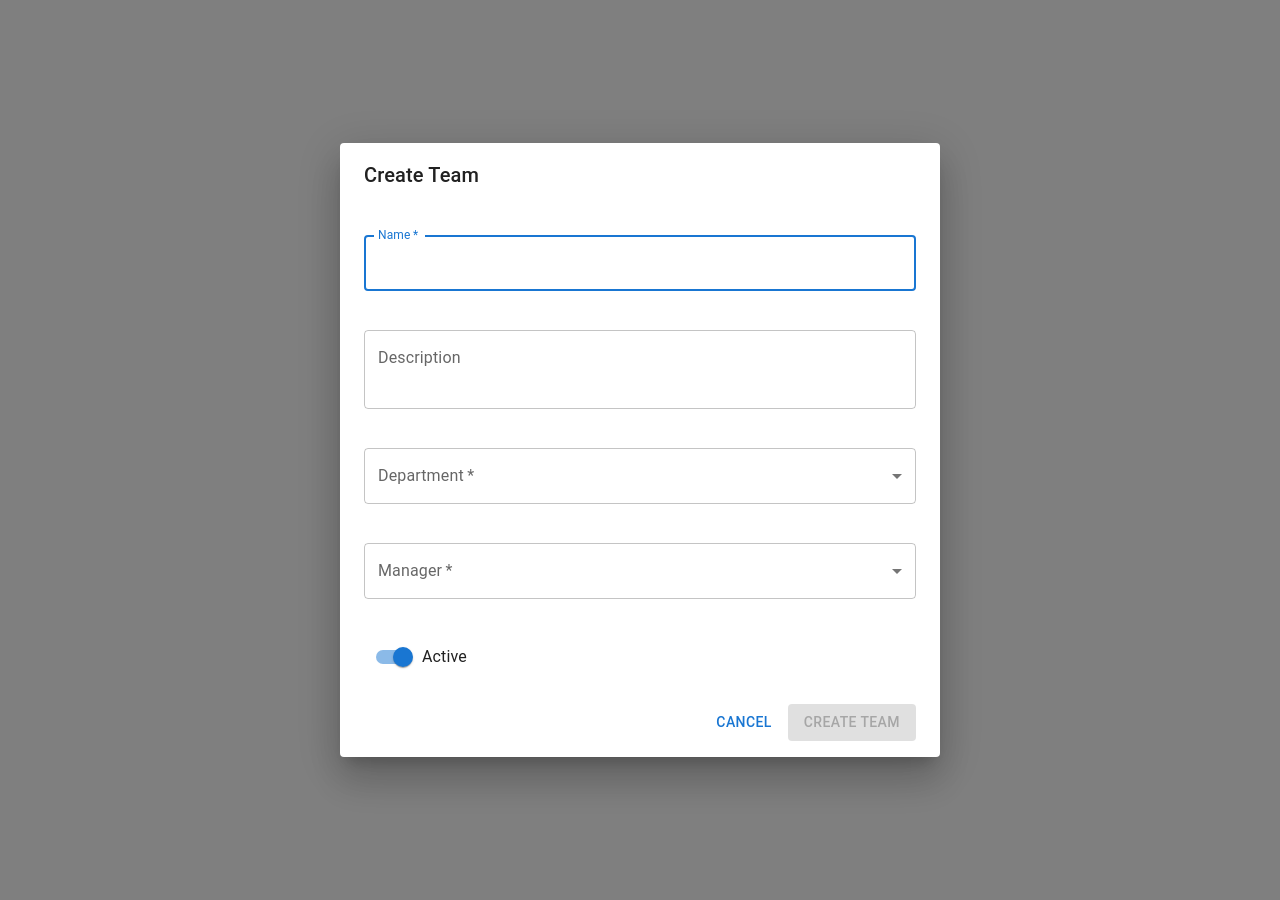
Scenario: create mode › populates the department and manager dropdowns from directory-service
Click the dropdown named "department" next to "Department".
click(640, 476)  # box [364, 448, 916, 504]
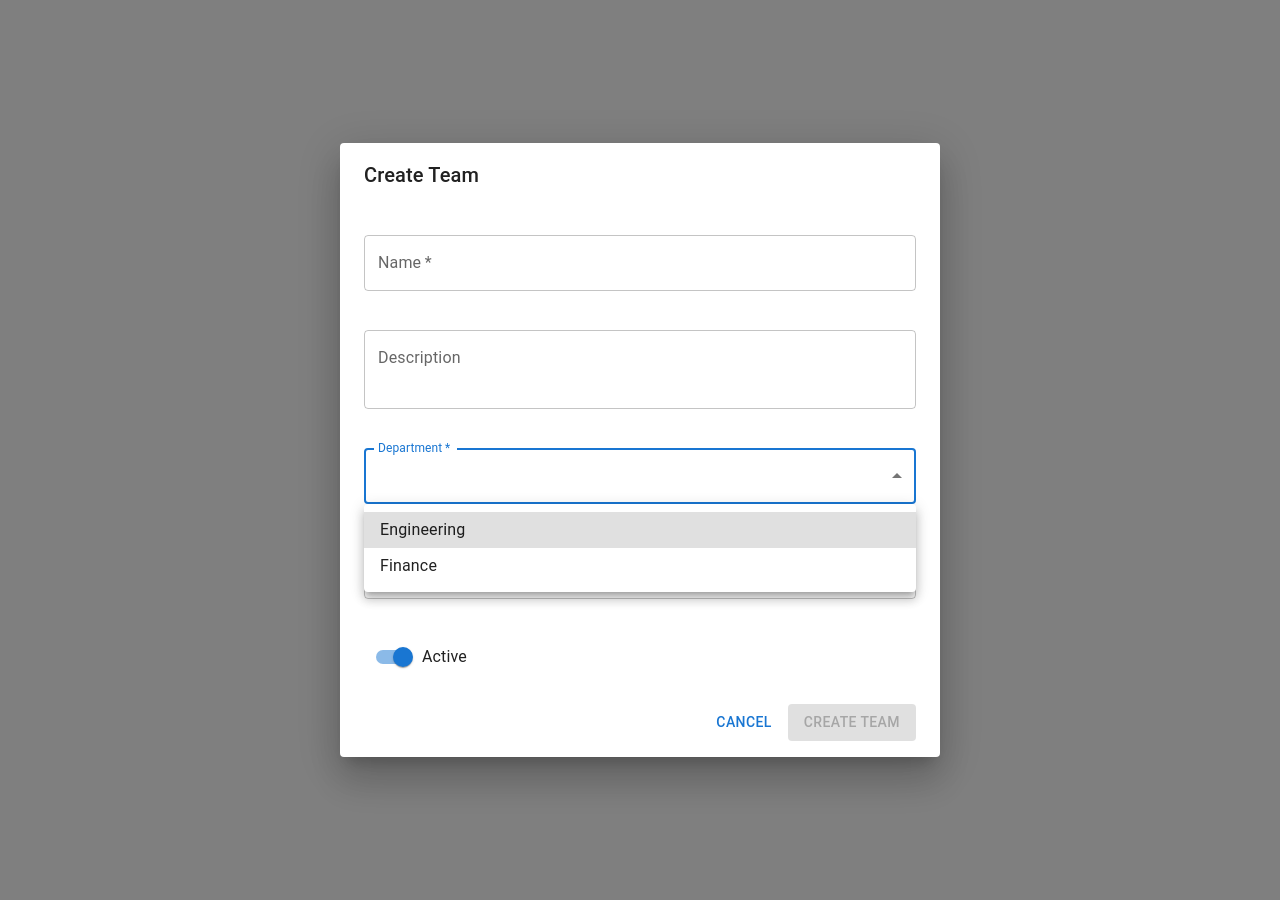
Click the option "Finance".
click(408, 566)  # box [380, 556, 437, 575]
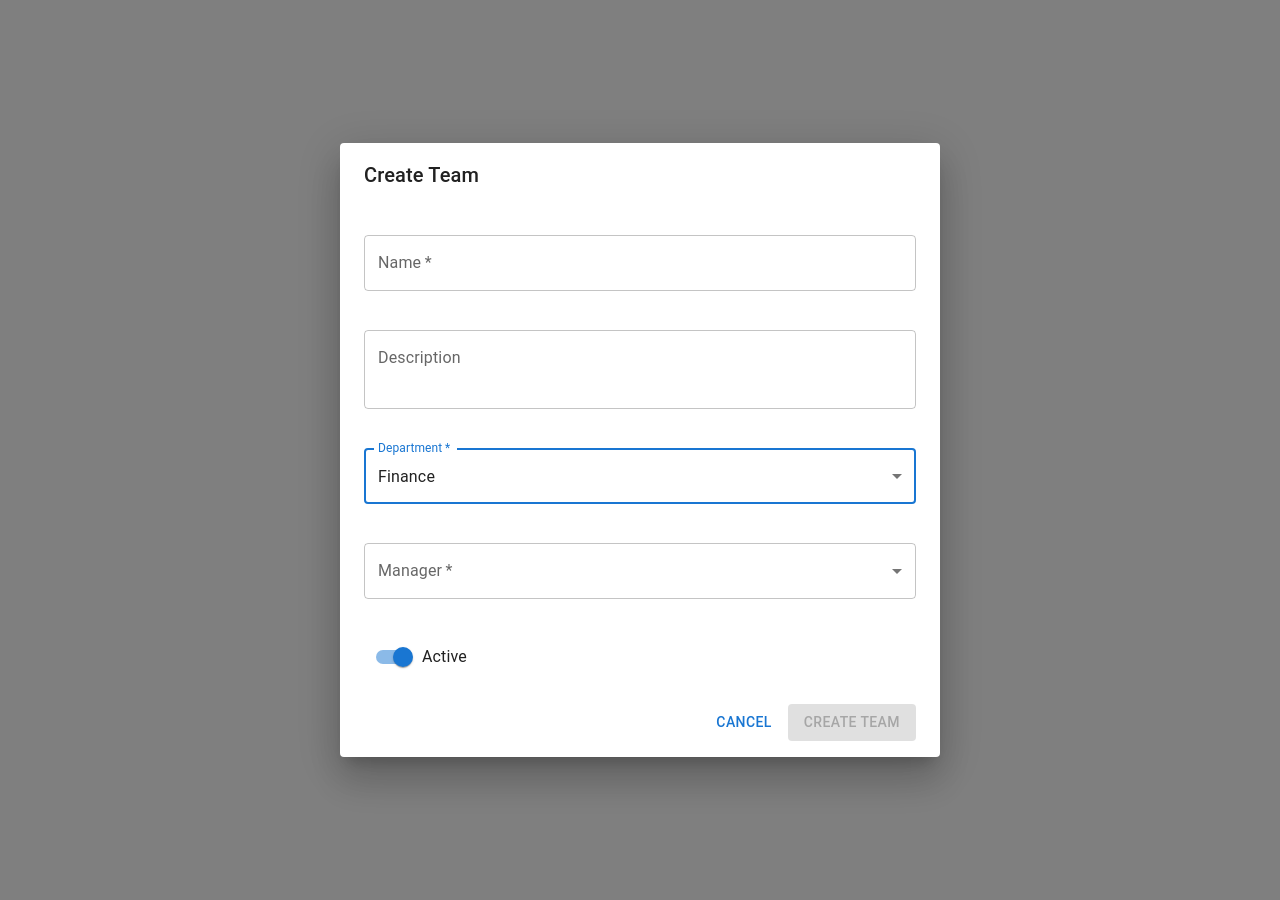
Click the dropdown named "manager".
click(640, 571)  # box [364, 543, 916, 599]
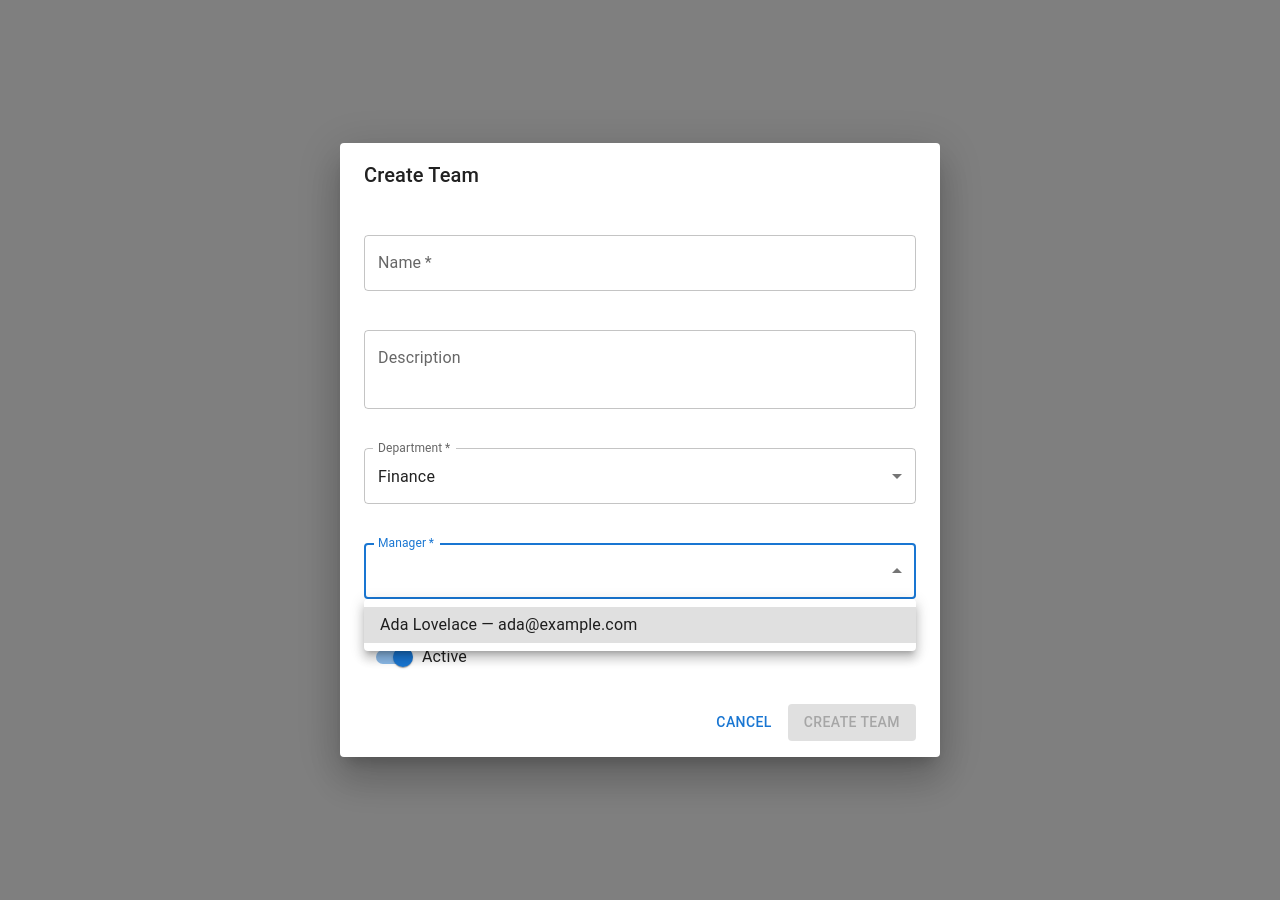
Click the option "Ada Lovelace — ada@example.com".
click(640, 625)  # box [364, 607, 916, 643]
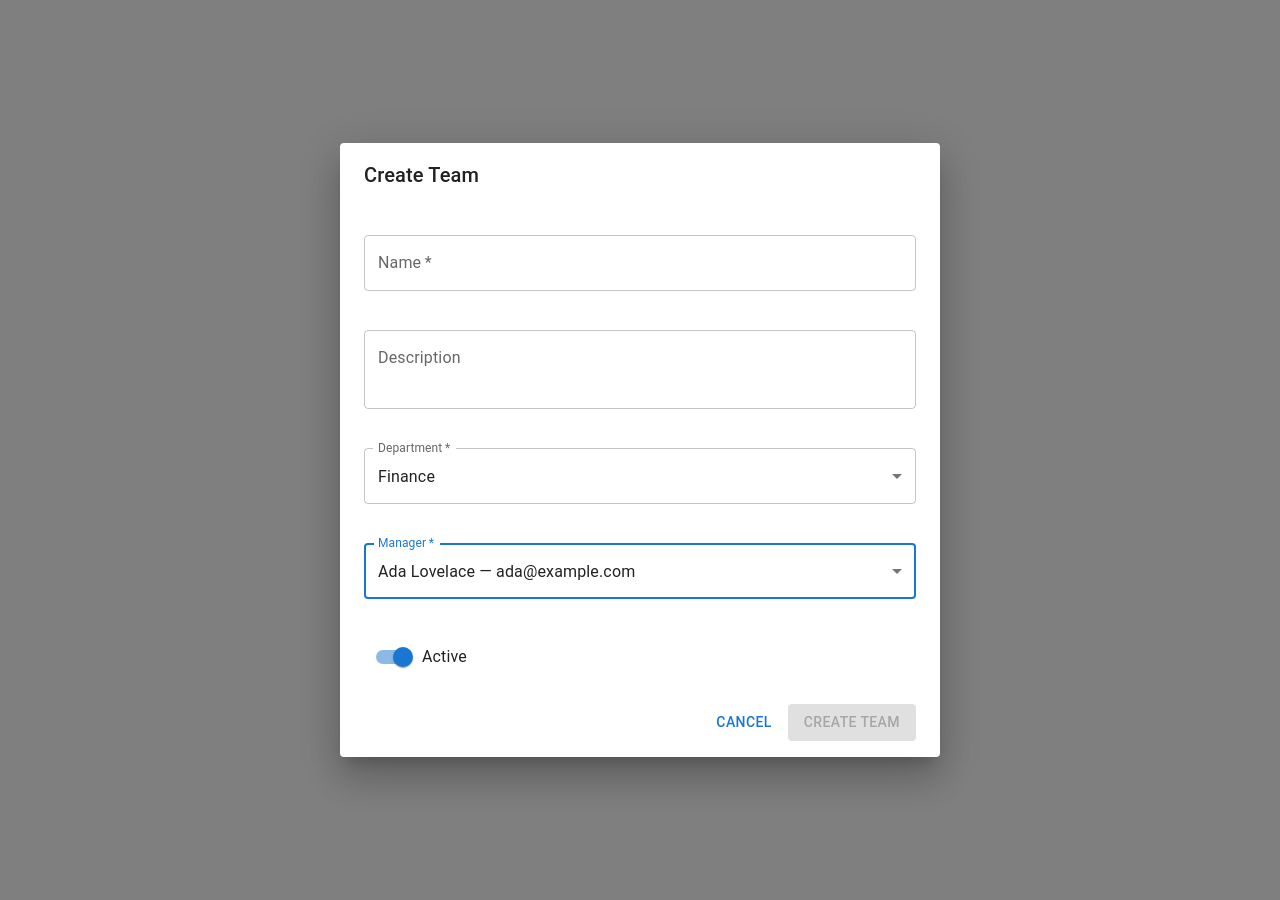
Result: the dropdown named "department" reads "Finance" at [378, 467, 435, 486]
Result: the dropdown named "manager" shows "Ada Lovelace" at [378, 562, 635, 581]
